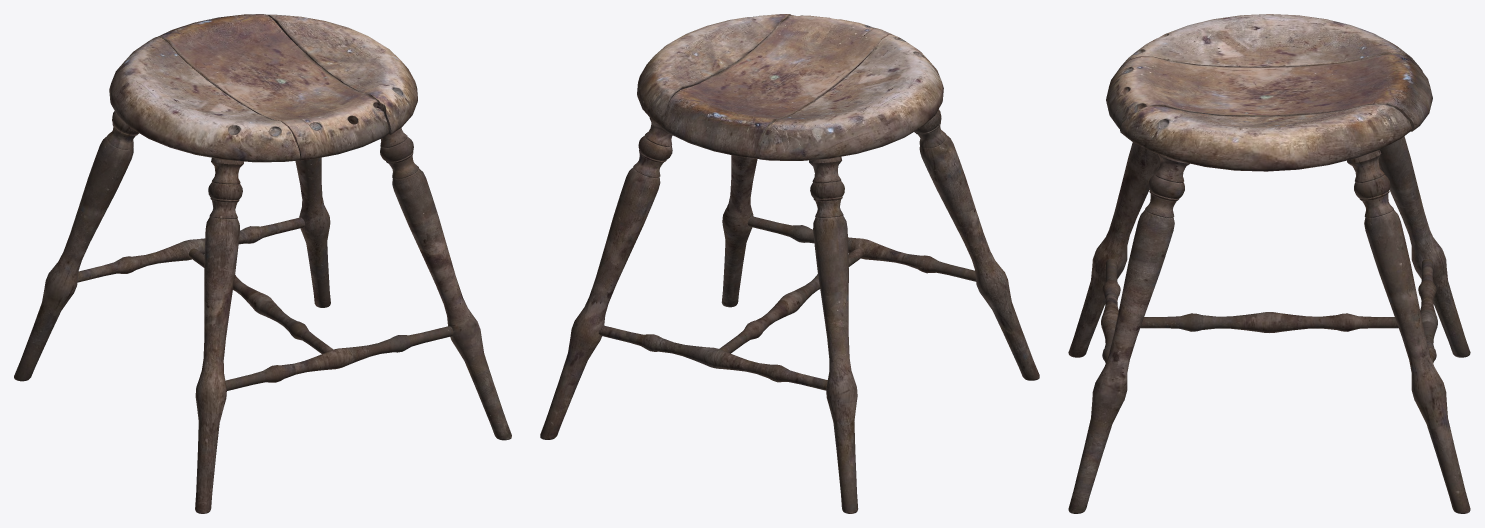
The model's file is wooden_stool_01_1k.gltf.
3 views of the same model, side by side, from view 1: azimuth 30°, elevation 25°; view 2: azimuth 150°, elevation 25°; view 3: azimuth 270°, elevation 25° (orthographic). The views are drawn at different scales.
Parts seen in each view (by area): view 1: wooden_stool_01; view 2: wooden_stool_01; view 3: wooden_stool_01.
Boxes of the visible parts, bbox=[...] form: wooden_stool_01: bbox=[14, 14, 511, 513]; wooden_stool_01: bbox=[540, 14, 1039, 513]; wooden_stool_01: bbox=[1068, 14, 1470, 513].
Bounding box in the file's own units: 0.4254 × 0.4373 × 0.4424.
1 material, 1 textured.
